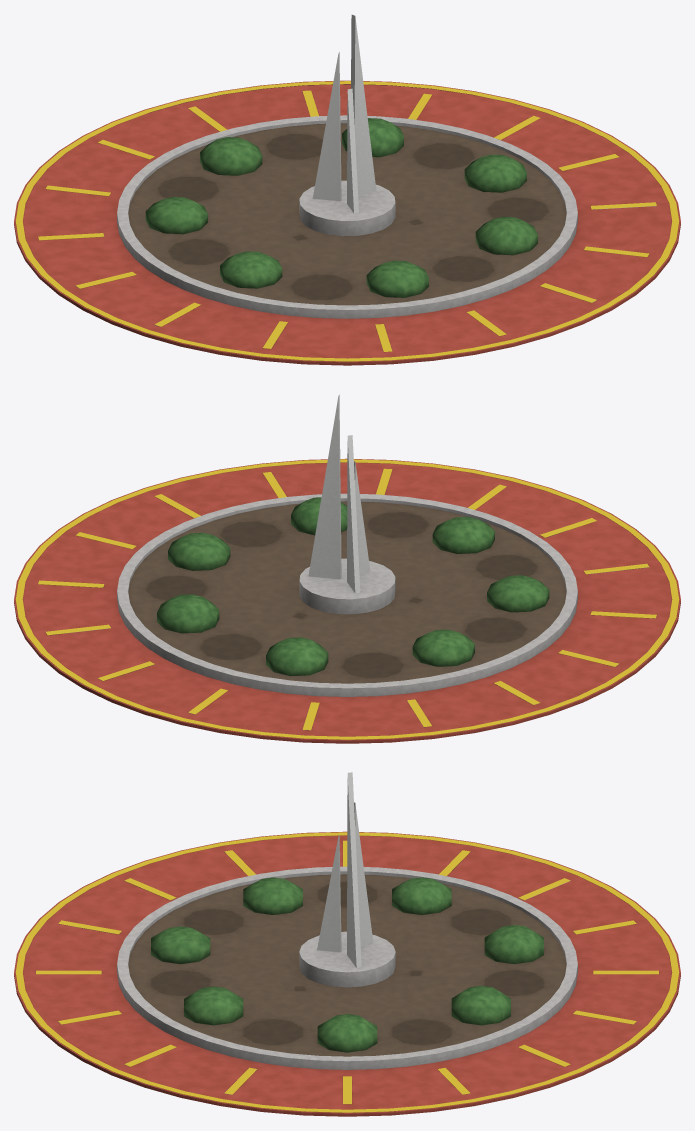
The model's file is IlsanRoundabout_LOD2.fbx.
3 views of the same model, one above another, from view 1: azimuth 30°, elevation 25°; view 2: azimuth 150°, elevation 25°; view 3: azimuth 270°, elevation 25° (orthographic).
Parts seen in each view (by area): view 1: IlsanRoundabout_LOD2; view 2: IlsanRoundabout_LOD2; view 3: IlsanRoundabout_LOD2.
Boxes of the visible parts, <box> form: IlsanRoundabout_LOD2: <box>14,14,680,365</box>; IlsanRoundabout_LOD2: <box>14,394,680,743</box>; IlsanRoundabout_LOD2: <box>14,772,680,1116</box>.
Size of the model in its own units: 15.2 by 5.33 by 15.2.
Materials: 1 (1 with a texture image).
